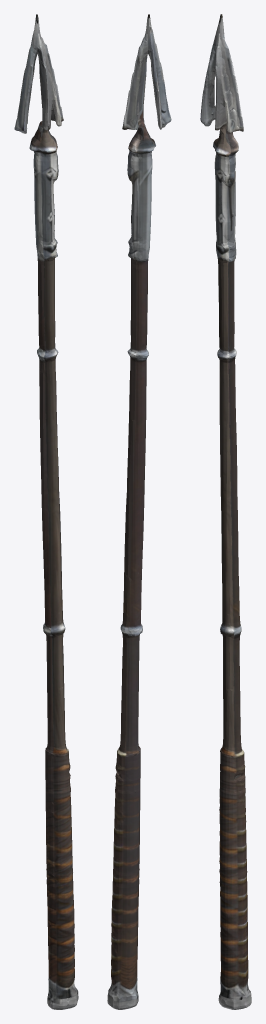
3 renders of one model, left to right at view 1: azimuth 30°, elevation 25°; view 2: azimuth 210°, elevation 25°; view 3: azimuth 330°, elevation 25°, orthographic.
Parts seen in each view (by area): view 1: temp; view 2: temp; view 3: temp.
Boxes of the visible parts, <box> form: temp: <box>14,14,78,1009</box>; temp: <box>107,14,171,1009</box>; temp: <box>200,14,251,1009</box>.
Bounding box in the file's own units: 11.69 × 199 × 8.44.
1 material, 1 textured.
